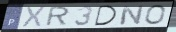3: (74, 5, 93, 27)
D: (94, 5, 119, 27)
N: (119, 5, 145, 26)
O: (144, 4, 167, 25)
R: (43, 6, 72, 27)
X: (21, 5, 48, 28)
